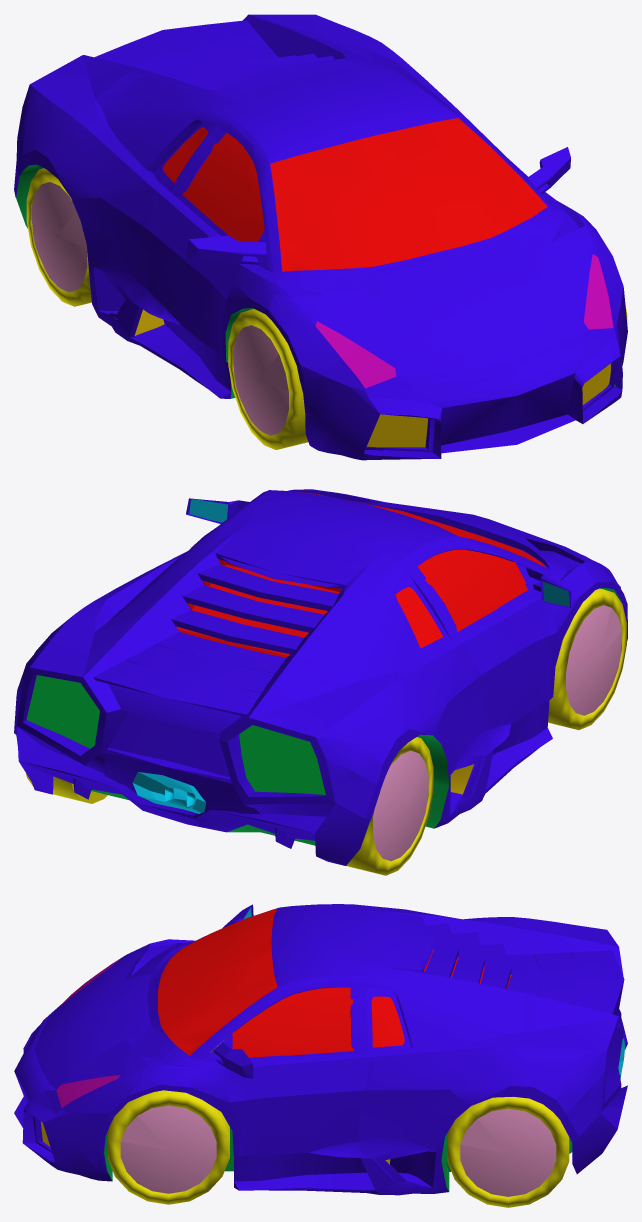
The model's file is Car09_Low_ColorCoded.fbx.
3 views of the same model, one above another, from view 1: azimuth 30°, elevation 25°; view 2: azimuth 150°, elevation 25°; view 3: azimuth 270°, elevation 25° (orthographic). The views are drawn at different scales.
Visible parts, largest first — view 1: CarBody_low, tireFrontR_low, tireBackR_low; view 2: CarBody_low, tireFrontR_low, tireBackR_low, tireBackL_low; view 3: CarBody_low, tireFrontL_low, tireBackL_low.
Boxes of the visible parts, x1,y1,x2,y2 form: CarBody_low: [14, 14, 627, 460]; tireFrontR_low: [228, 309, 308, 449]; tireBackR_low: [26, 168, 91, 306]; CarBody_low: [14, 489, 627, 865]; tireFrontR_low: [548, 588, 626, 729]; tireBackR_low: [346, 737, 433, 875]; tireBackL_low: [26, 773, 107, 803]; CarBody_low: [14, 904, 627, 1195]; tireFrontL_low: [107, 1090, 229, 1204]; tireBackL_low: [447, 1096, 569, 1207].
Size of the model in its own units: 70.12 by 113 by 40.82.
